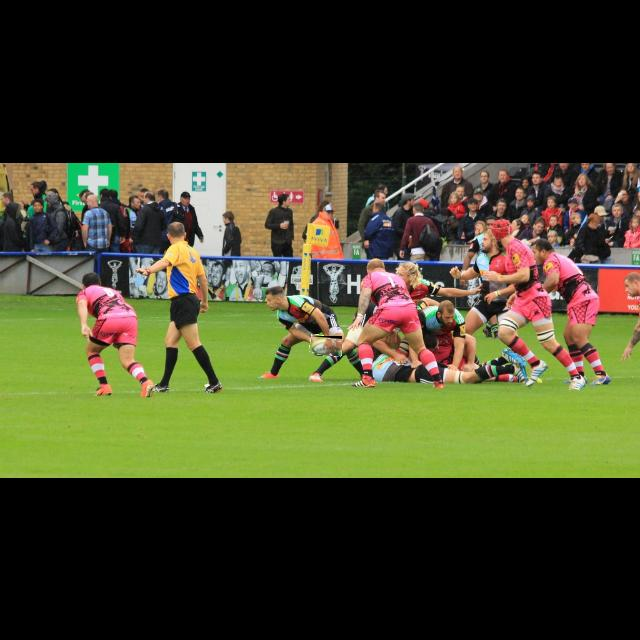Football: (310, 336, 342, 356)
